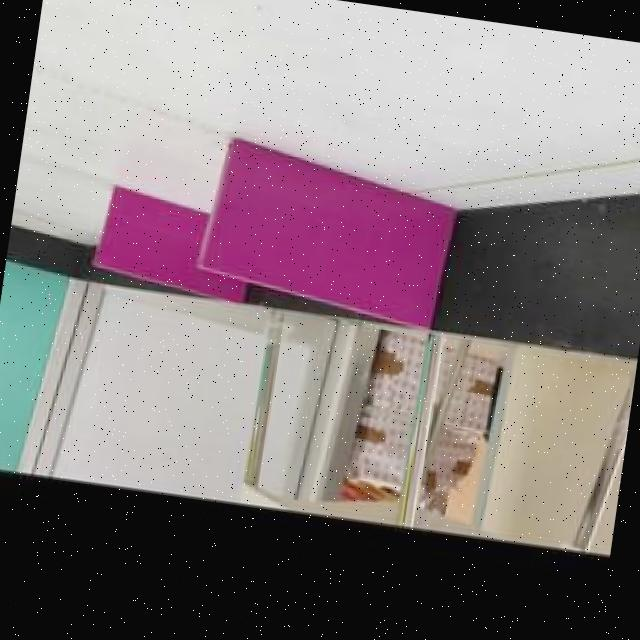xparking: (201, 135, 453, 326), (95, 184, 210, 289)
